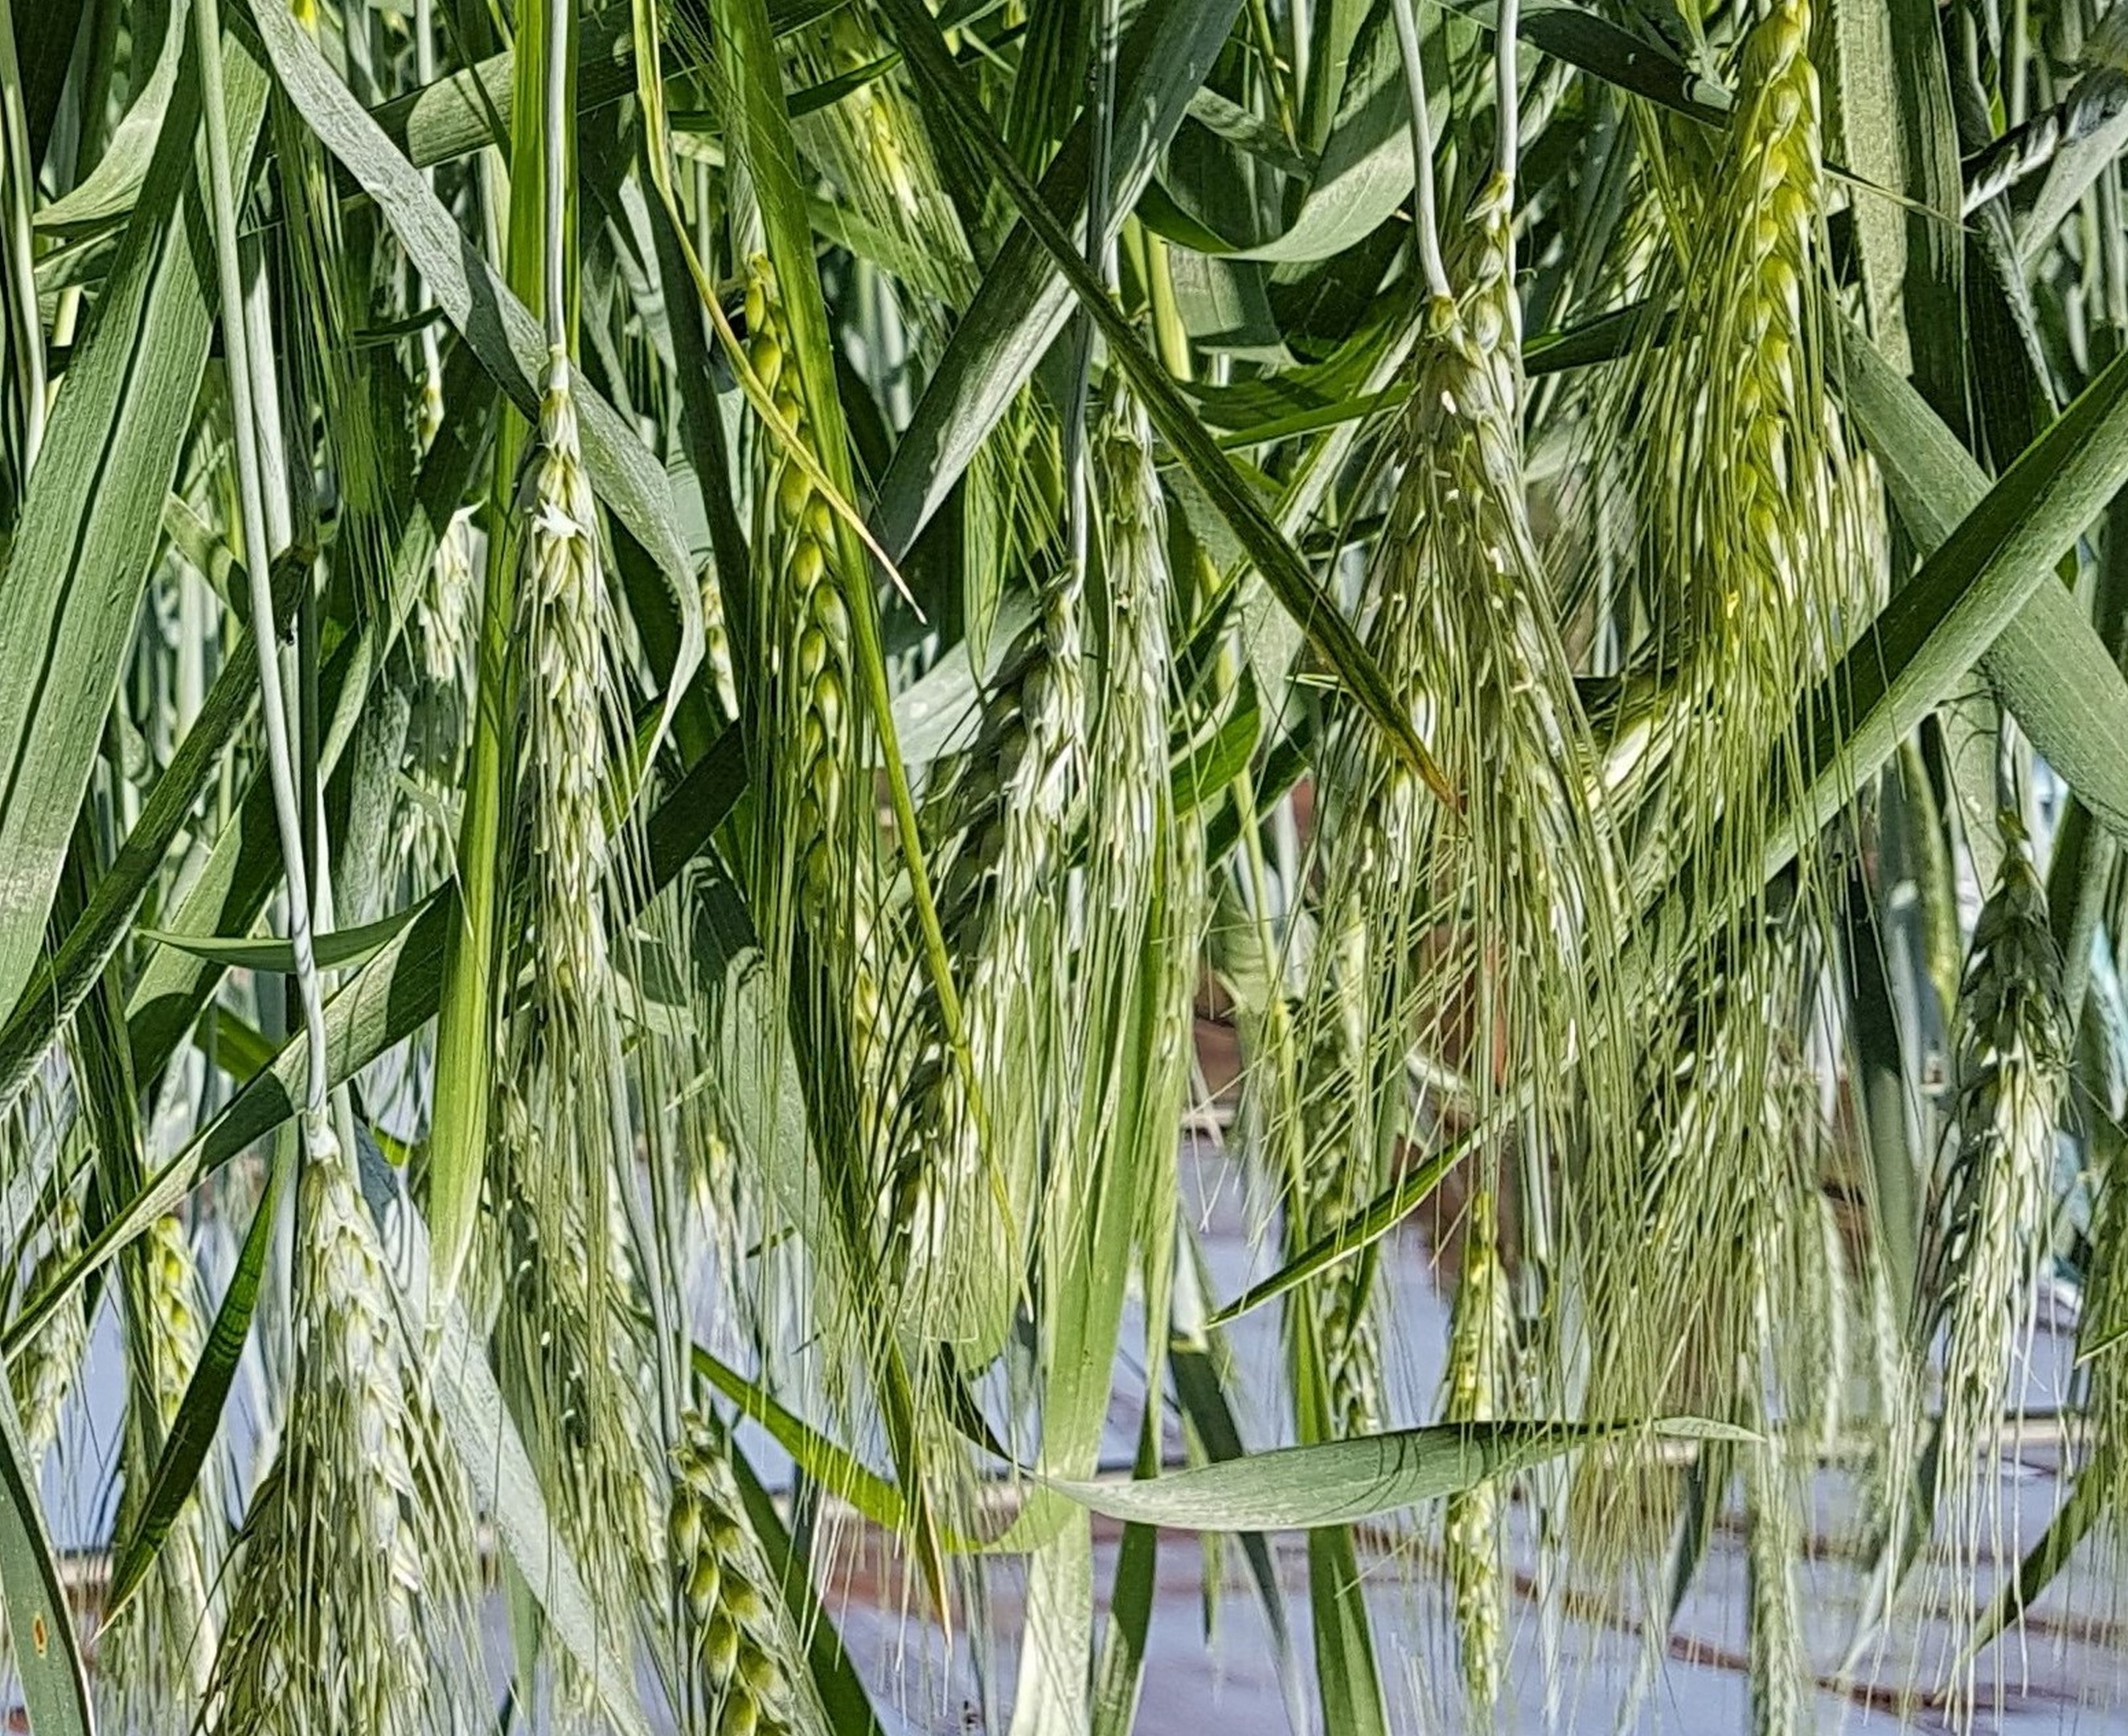Healthy Wheat: (1644, 9, 1879, 626), (714, 253, 921, 824)
